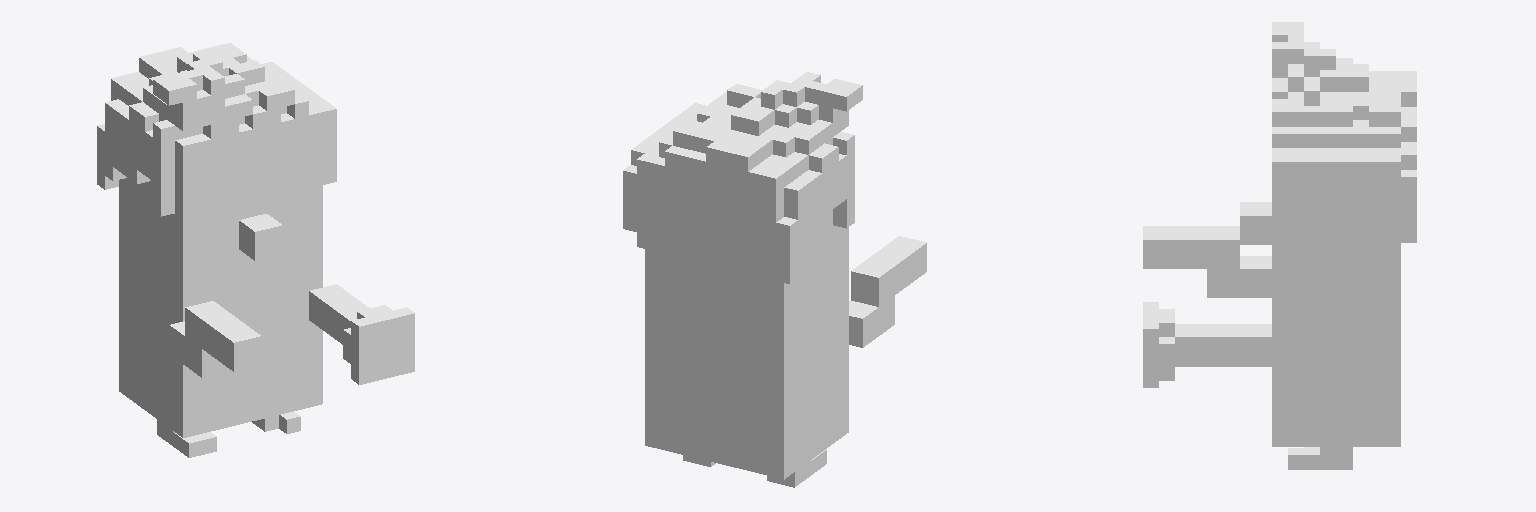
Rendered from player-nicholas.obj.
The picture shows the model from 3 angles: view 1: azimuth 30°, elevation 25°; view 2: azimuth 150°, elevation 25°; view 3: azimuth 270°, elevation 25°; orthographic projection.
Parts seen in each view (by area): view 1: player:Nicholas; view 2: player:Nicholas; view 3: player:Nicholas.
Part boxes in pixels (bbox=[...]): player:Nicholas: bbox=[97, 43, 414, 457]; player:Nicholas: bbox=[623, 72, 926, 487]; player:Nicholas: bbox=[1143, 22, 1416, 469].
Bounding box in the file's own units: 13 × 26 × 17.